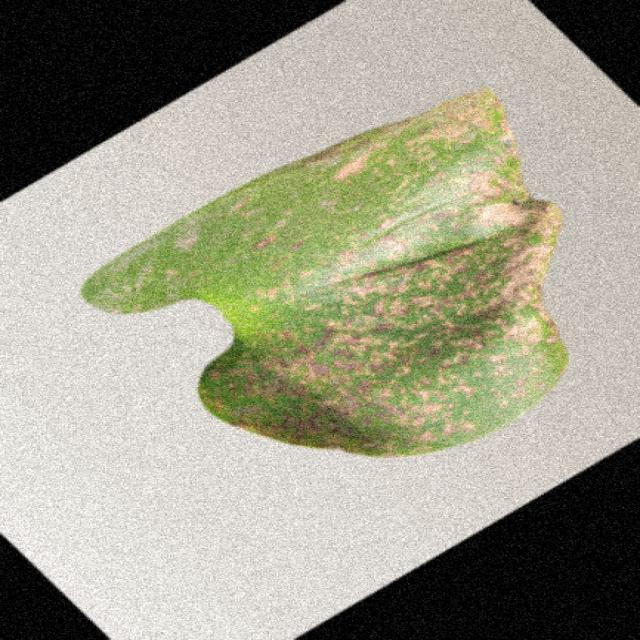daun berpenyakit bercak: (84, 89, 567, 456)
